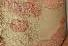plaque psoriasis: (4, 0, 39, 18), (35, 28, 64, 46), (42, 0, 68, 10), (10, 19, 28, 32), (0, 25, 6, 46), (0, 0, 3, 14), (23, 0, 41, 1)
